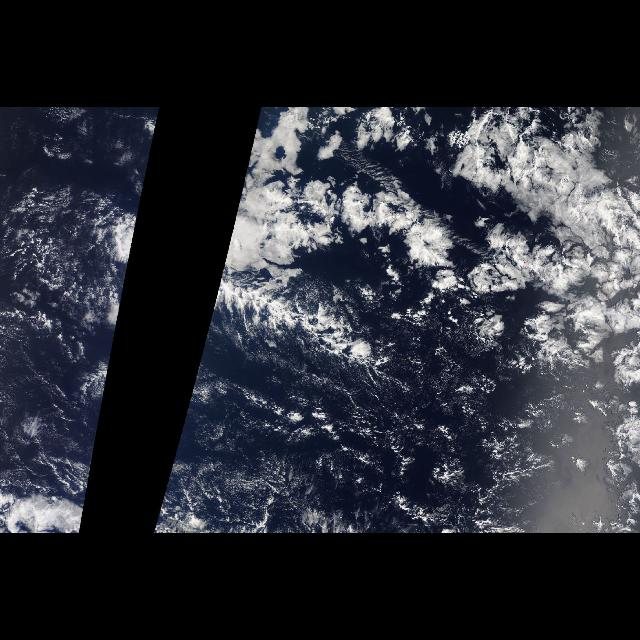Fish: (222, 259, 470, 433)
Flower: (262, 136, 640, 470)
Gravel: (233, 366, 577, 532)
Sugar: (156, 453, 458, 533)
